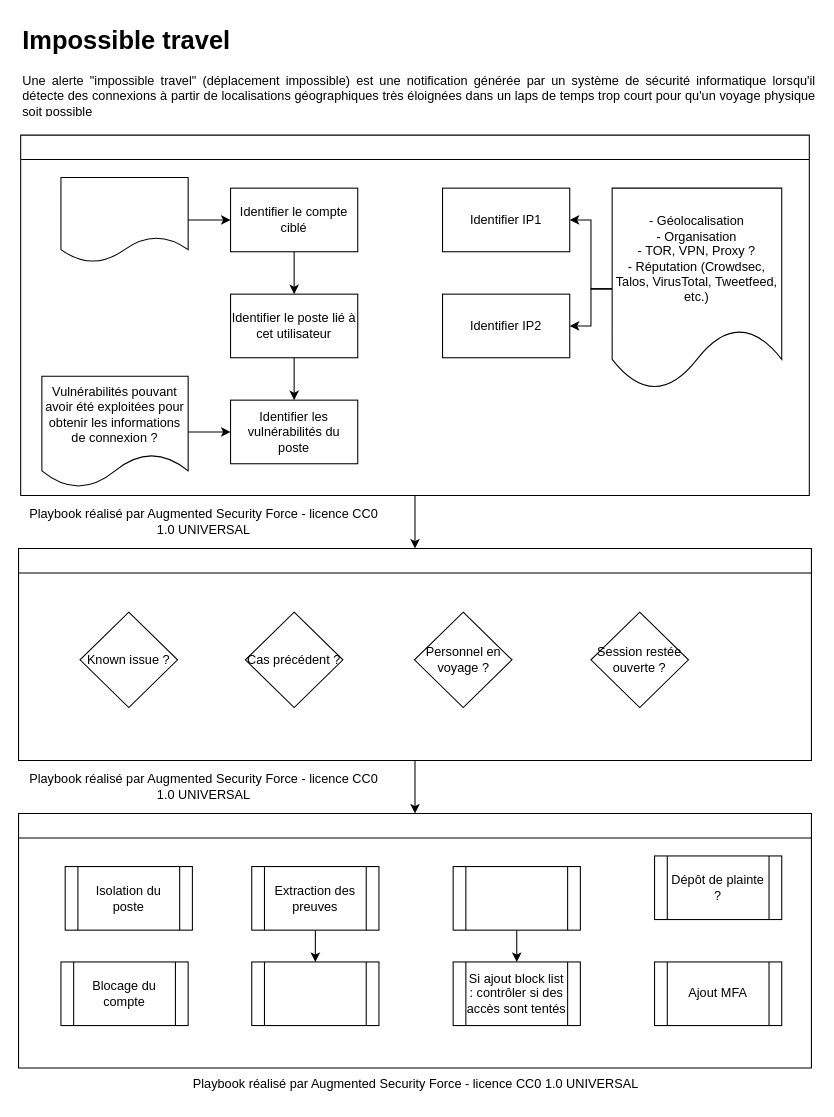
Image size: 834x1117. Some labels were removed from this diagram. The shapes that lost their labels are listed below. From the top down, each one's box as (x1, y1, x2, y2) in pixels, then its label:
(60, 176, 188, 262): - Compte VIP ? - A privilège ? - Compte de service ?
(20, 134, 809, 496): EVALUATION DE LA MENACE
(17, 547, 811, 761): LEVE DE DOUTE
(452, 865, 580, 930): Ajout de l'IP allow/block list
(17, 812, 811, 1068): ACTIONS / RECOMMANDATIONS
(251, 961, 379, 1026): Analyse des journaux
